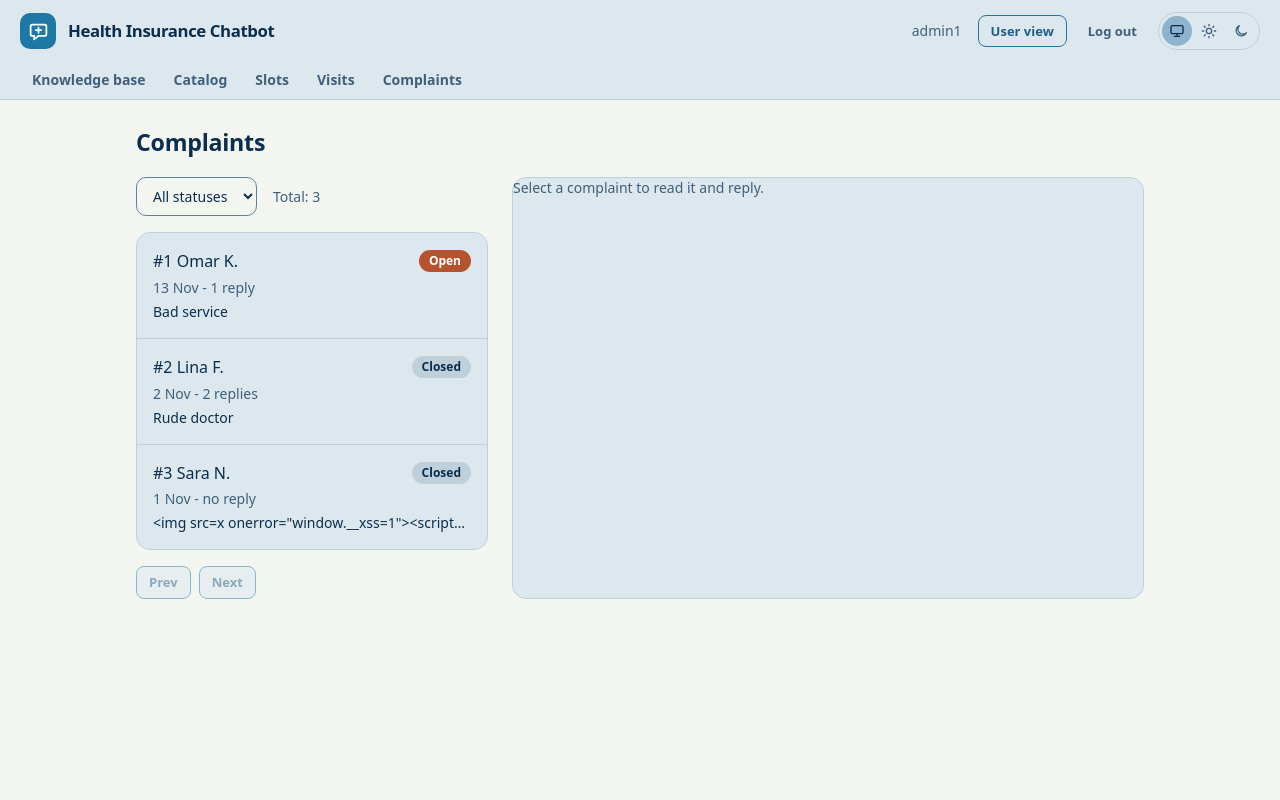
Test case: AdminComplaintsPage › E5: a closed complaint has its reply box disabled with the reason
Click the button with test id "complaint-item" that starts with "Lina F.".
click(200, 367)  # box [137,339,487,444]
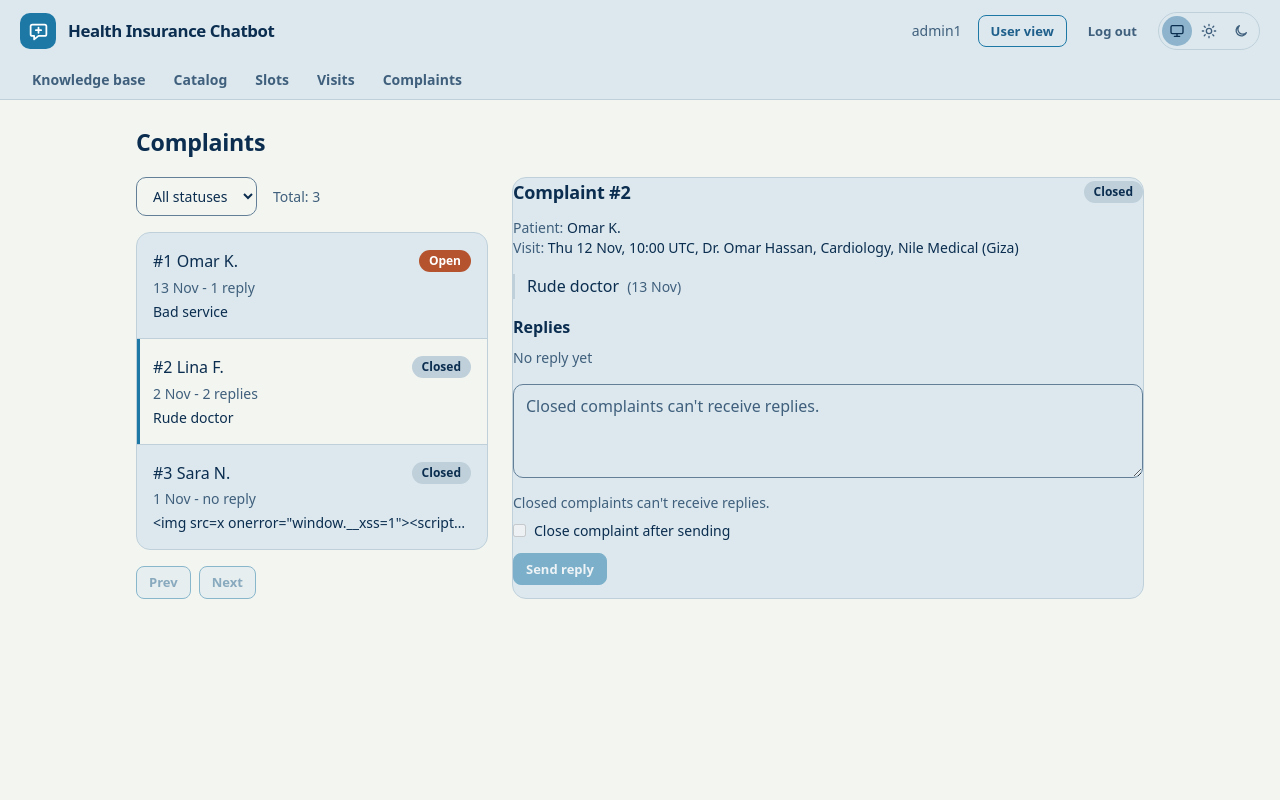
Expected: the heading "Complaint #2" is shown, [513,178,631,206]
Expected: the text box with test id "reply-body" is disabled, [513,384,1143,478]
Expected: the button with test id "send-reply" is disabled, [513,553,607,585]
